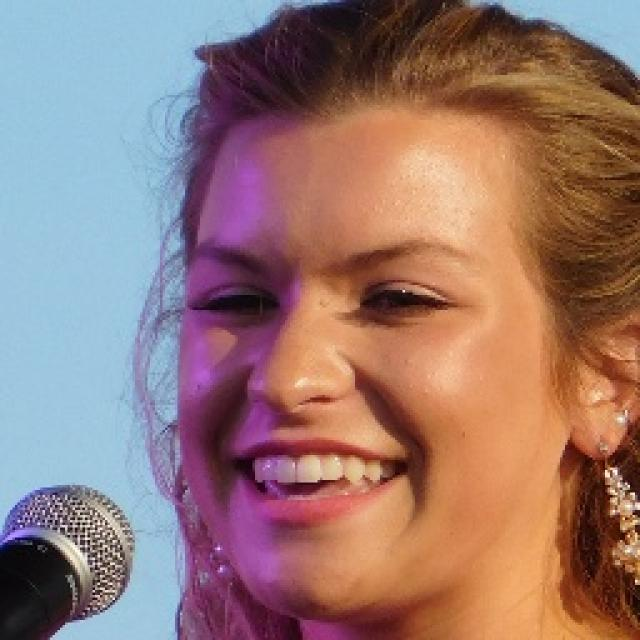earlobe: (571, 398, 633, 459)
eye: (358, 284, 459, 318), (191, 283, 278, 317)
nose: (248, 388, 356, 438)
wholeear: (567, 314, 640, 457)
